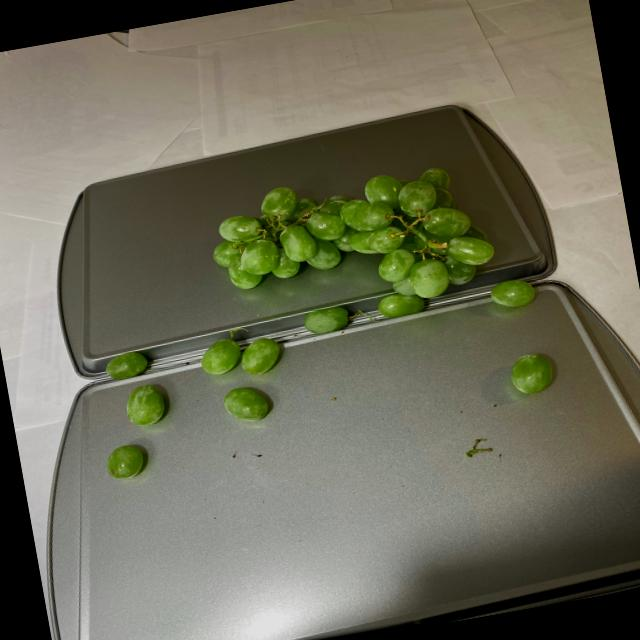grapes: (65, 151, 551, 482)
